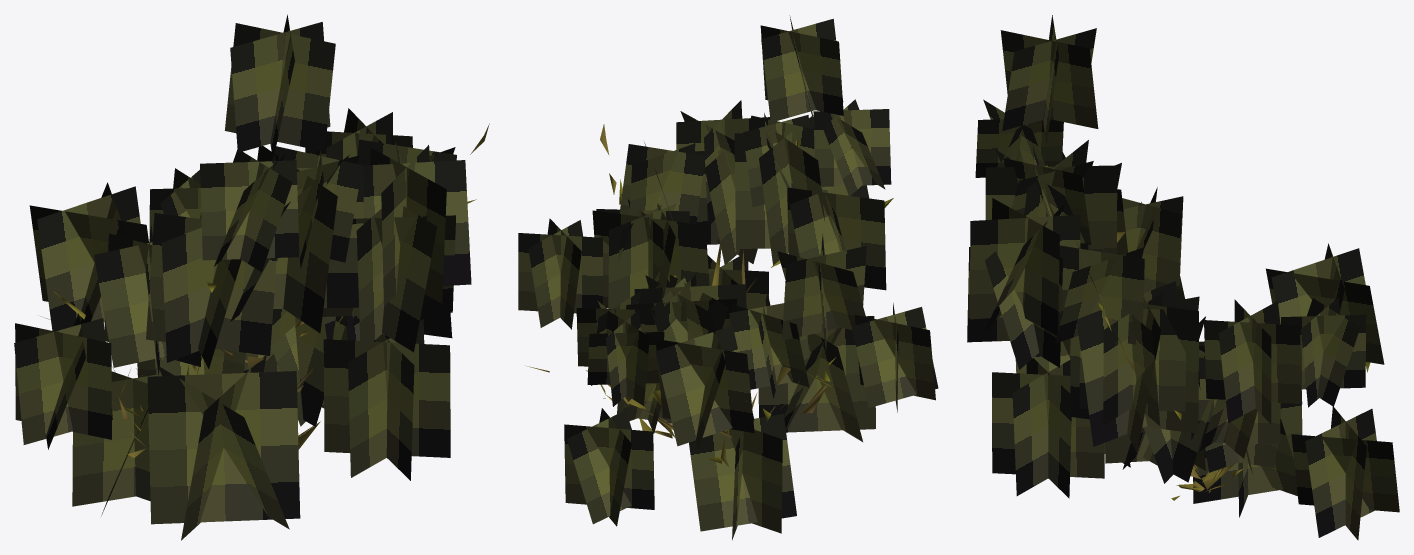
The model's file is bush1.glb.
3 renders of one model, left to right at view 1: azimuth 30°, elevation 25°; view 2: azimuth 150°, elevation 25°; view 3: azimuth 270°, elevation 25°, orthographic. The views are drawn at different scales.
Parts seen in each view (by area): view 1: cards, LO.001; view 2: cards, LO.001; view 3: cards, LO.001.
Part boxes in pixels (left/top/right/bottom): cards: left=14, top=14, right=471, bottom=540; LO.001: left=40, top=123, right=489, bottom=460; cards: left=518, top=15, right=938, bottom=540; LO.001: left=526, top=124, right=893, bottom=466; cards: left=967, top=15, right=1399, bottom=540; LO.001: left=1044, top=165, right=1370, bottom=500.
Size of the model in its own units: 0.9492 by 1.07 by 0.8844.
Materials: 2 (2 with a texture image).
